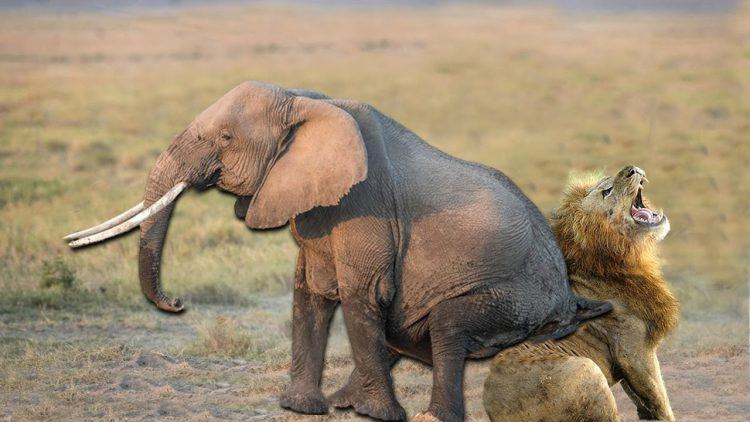elephant: (65, 77, 586, 420)
lion: (483, 162, 676, 422)
